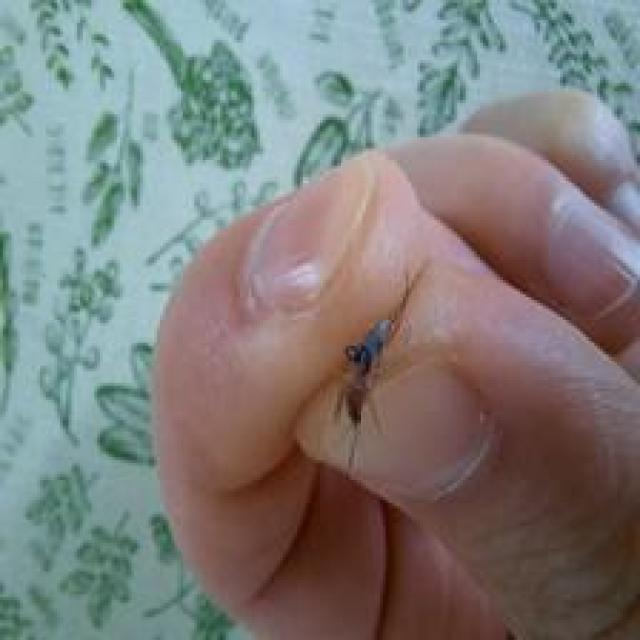Culex: (333, 317, 396, 480)
